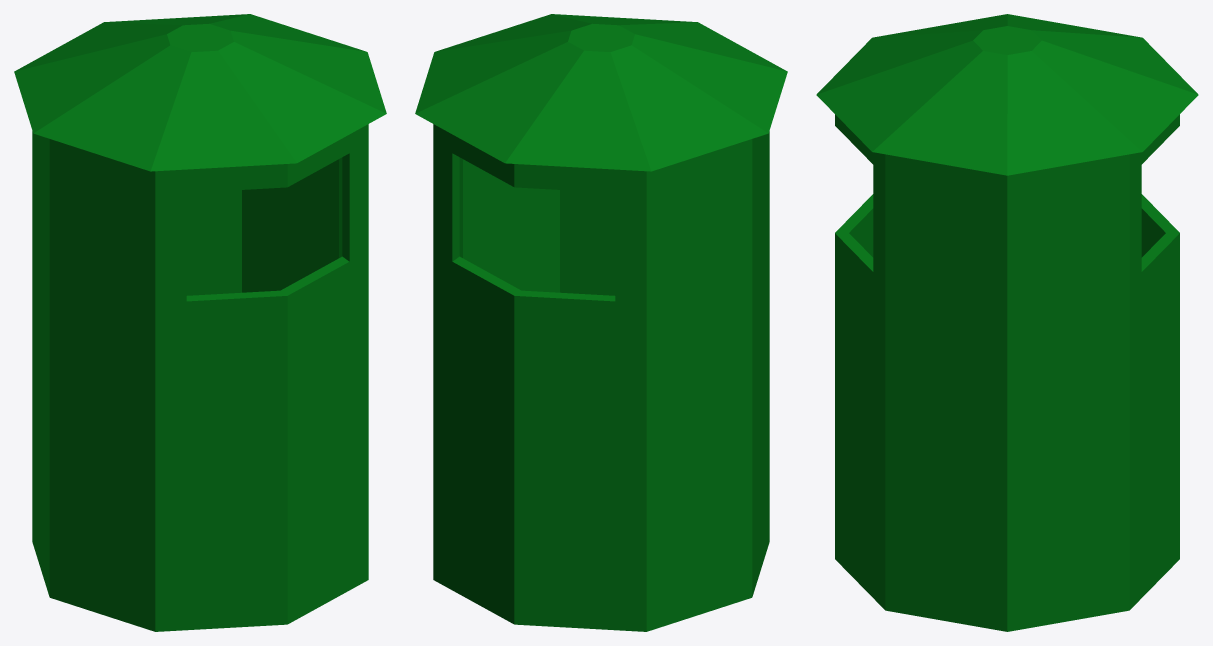
Rendered from BinScaled.fbx.
3 views of the same model, side by side, from view 1: azimuth 30°, elevation 25°; view 2: azimuth 150°, elevation 25°; view 3: azimuth 270°, elevation 25° (orthographic).
Visible parts, largest first — view 1: Cylinder.001; view 2: Cylinder.001; view 3: Cylinder.001.
Part boxes in pixels (<box>): Cylinder.001: <box>14,14,386,631</box>; Cylinder.001: <box>415,14,787,631</box>; Cylinder.001: <box>816,14,1198,631</box>.
Size of the model in its own units: 100 by 150 by 100.
